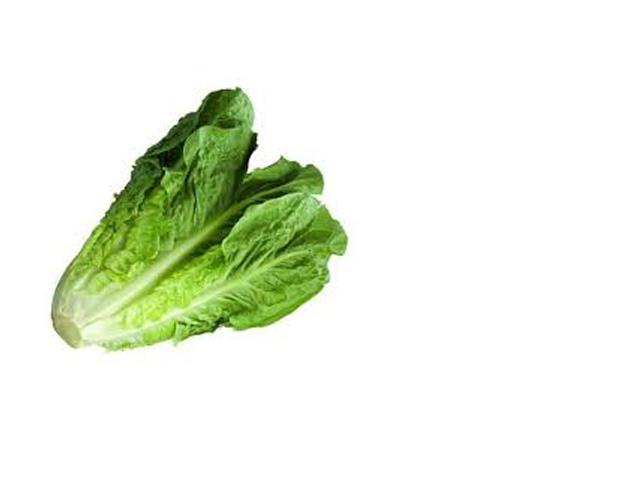lettuce: (59, 71, 344, 364)
